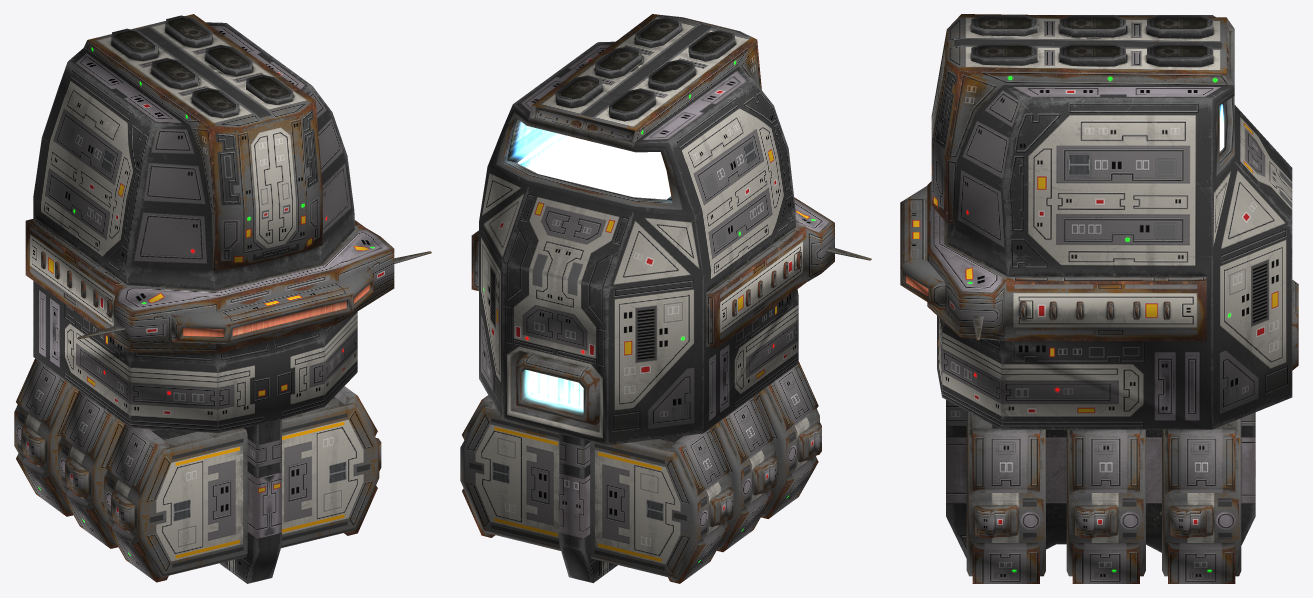
The model's file is station_refinery.glb.
The picture shows the model from 3 angles, left to right: view 1: azimuth 30°, elevation 25°; view 2: azimuth 150°, elevation 25°; view 3: azimuth 270°, elevation 25°; orthographic projection. The views are drawn at different scales.
Parts seen in each view (by area): view 1: scenery; view 2: scenery; view 3: scenery.
Boxes of the visible parts, box(x1,y1,x2,y2) form: scenery: box(14, 14, 431, 583); scenery: box(460, 14, 871, 583); scenery: box(900, 14, 1298, 583).
Size of the model in its own units: 0.7773 by 1 by 0.6995.
1 material, 1 textured.
